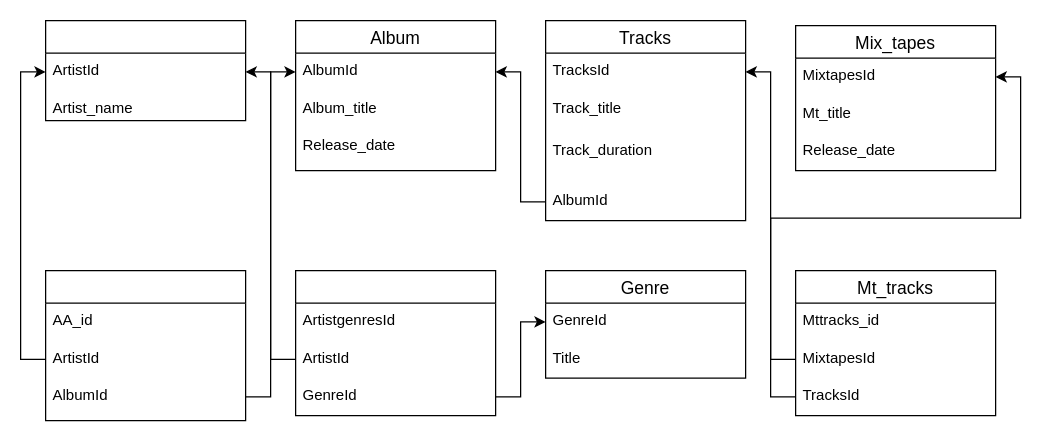
Image size: 1041x441. Some labels were removed from this diagram. The shapes that lost their labels are listed below. From the top down, each one's box as (x1, y1, x2, y2) in pixels, then its label:
(44, 19, 246, 121): Artist_list
(44, 269, 246, 421): Artists_albums
(294, 269, 496, 416): Artists_genres
